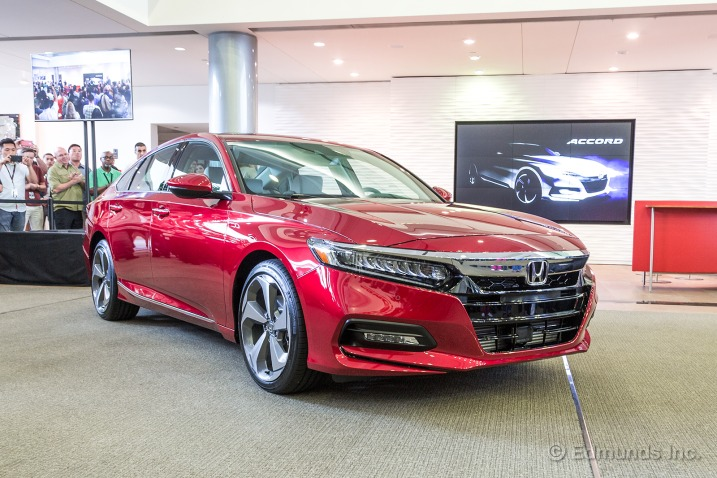accord: (79, 124, 638, 407)
